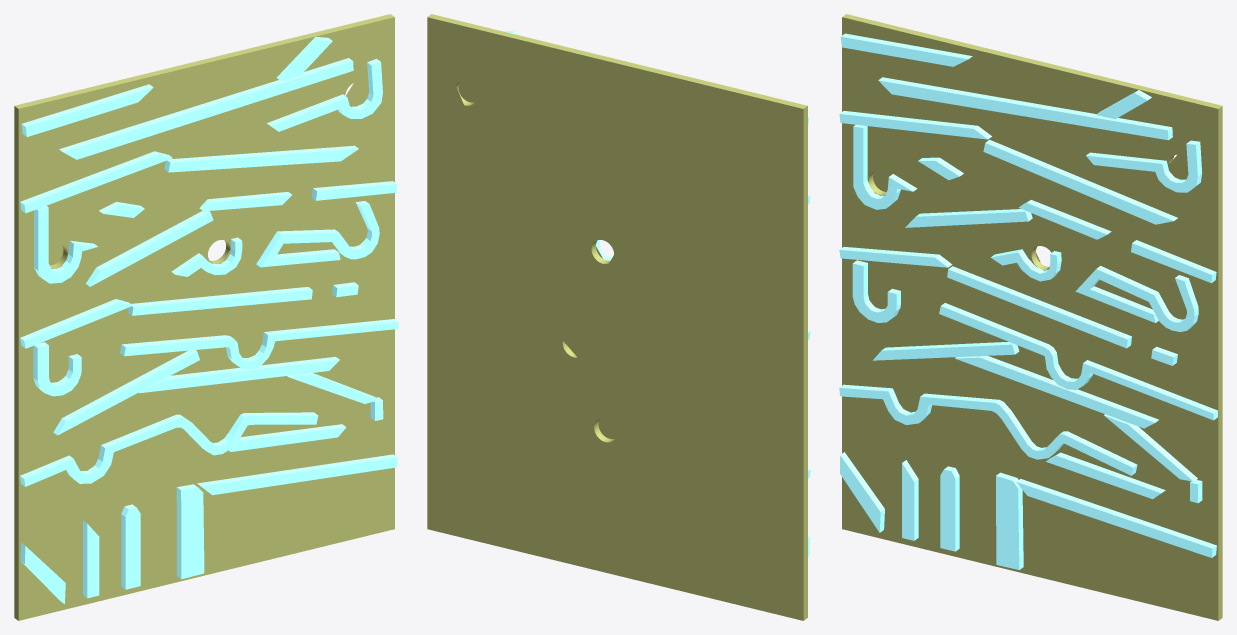
The model's file is game_board.fbx.
3 views of the same model, side by side, from view 1: azimuth 30°, elevation 25°; view 2: azimuth 150°, elevation 25°; view 3: azimuth 330°, elevation 25° (orthographic).
Parts seen in each view (by area): view 1: Board, Plane.016; view 2: Board; view 3: Board, Plane.016.
Part boxes in pixels (x1,y1,x2,y2): Board: [14, 14, 394, 620]; Plane.016: [20, 36, 398, 603]; Board: [427, 14, 807, 620]; Board: [842, 14, 1222, 620]; Plane.016: [839, 33, 1217, 569].
Bounding box in the file's own units: 1000 × 1300 × 40.
